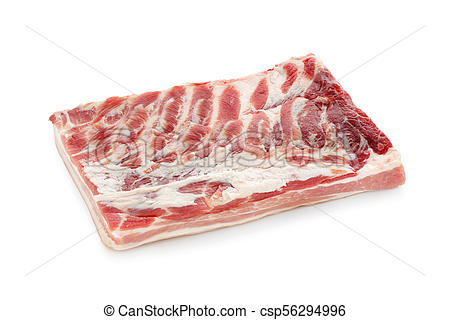bacon: (49, 62, 423, 226)
